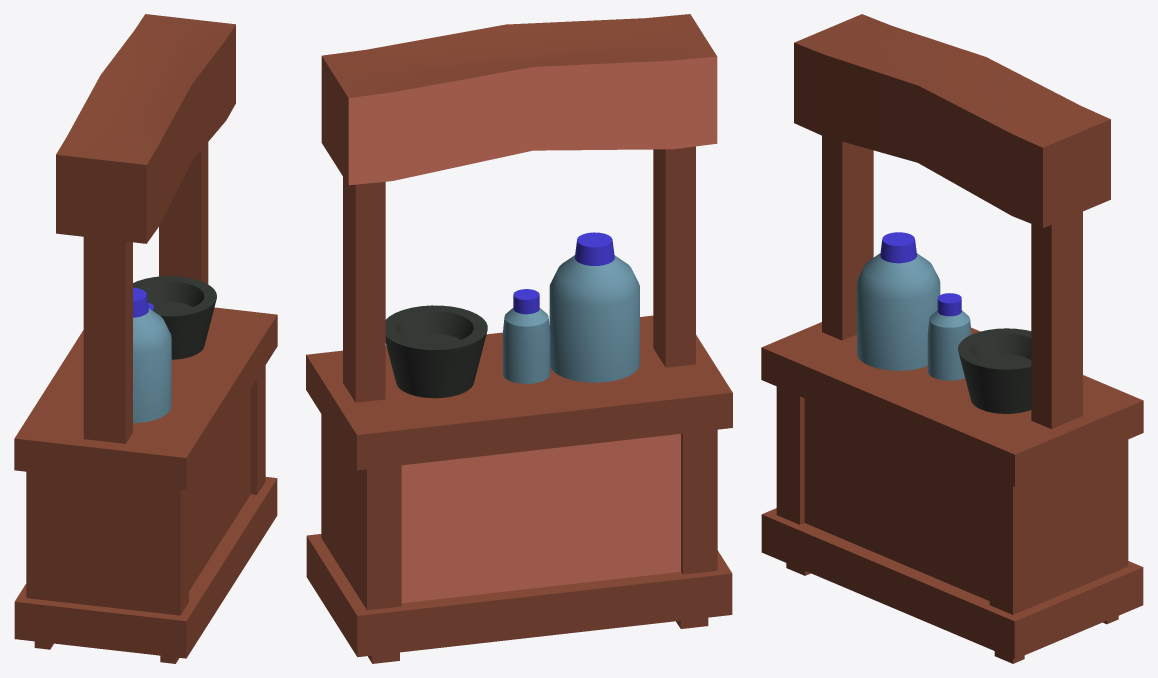
File: VR.fbx_stand_5.fbx
3 views of the same model, side by side, from view 1: azimuth 30°, elevation 25°; view 2: azimuth 150°, elevation 25°; view 3: azimuth 270°, elevation 25° (orthographic). The views are drawn at different scales.
Visible parts, largest first — view 1: stand 5; view 2: stand 5; view 3: stand 5.
Part boxes in pixels (<box>): stand 5: <box>14,14,277,663</box>; stand 5: <box>306,14,732,663</box>; stand 5: <box>761,14,1143,663</box>.
Size of the model in its own units: 64.94 by 97.91 by 64.92.
